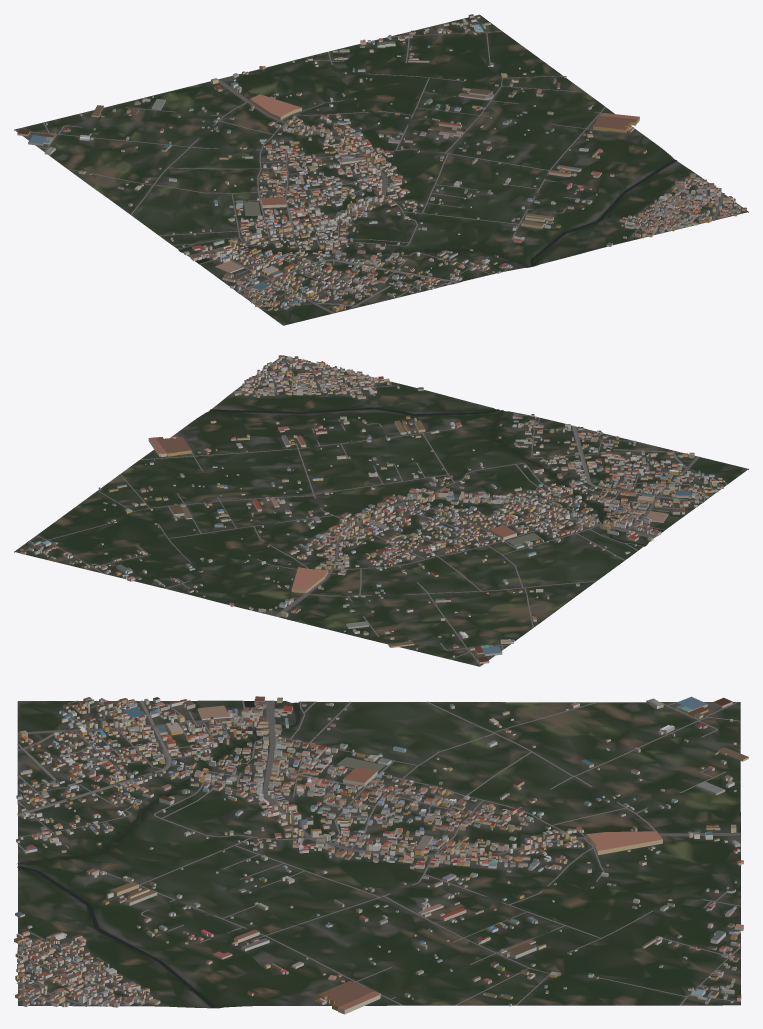
The picture shows the model from 3 angles, top to bottom: view 1: azimuth 30°, elevation 25°; view 2: azimuth 150°, elevation 25°; view 3: azimuth 270°, elevation 25°; orthographic projection. The views are drawn at different scales.
Parts seen in each view (by area): view 1: ground, buildings, roads, water; view 2: ground, buildings, roads, water; view 3: ground, buildings, roads, water.
Part boxes in pixels (x1=…): ground: x1=14, y1=14, x2=748, y2=325; buildings: x1=17, y1=14, x2=746, y2=311; roads: x1=15, y1=16, x2=741, y2=313; water: x1=179, y1=159, x2=676, y2=293; ground: x1=14, y1=355, x2=748, y2=666; buildings: x1=20, y1=355, x2=724, y2=663; roads: x1=20, y1=358, x2=726, y2=666; water: x1=210, y1=407, x2=703, y2=546; ground: x1=17, y1=700, x2=740, y2=1008; buildings: x1=14, y1=696, x2=748, y2=1014; roads: x1=17, y1=700, x2=741, y2=1006; water: x1=17, y1=701, x2=385, y2=1008.
Size of the model in its own units: 1452 by 26.74 by 1425.
